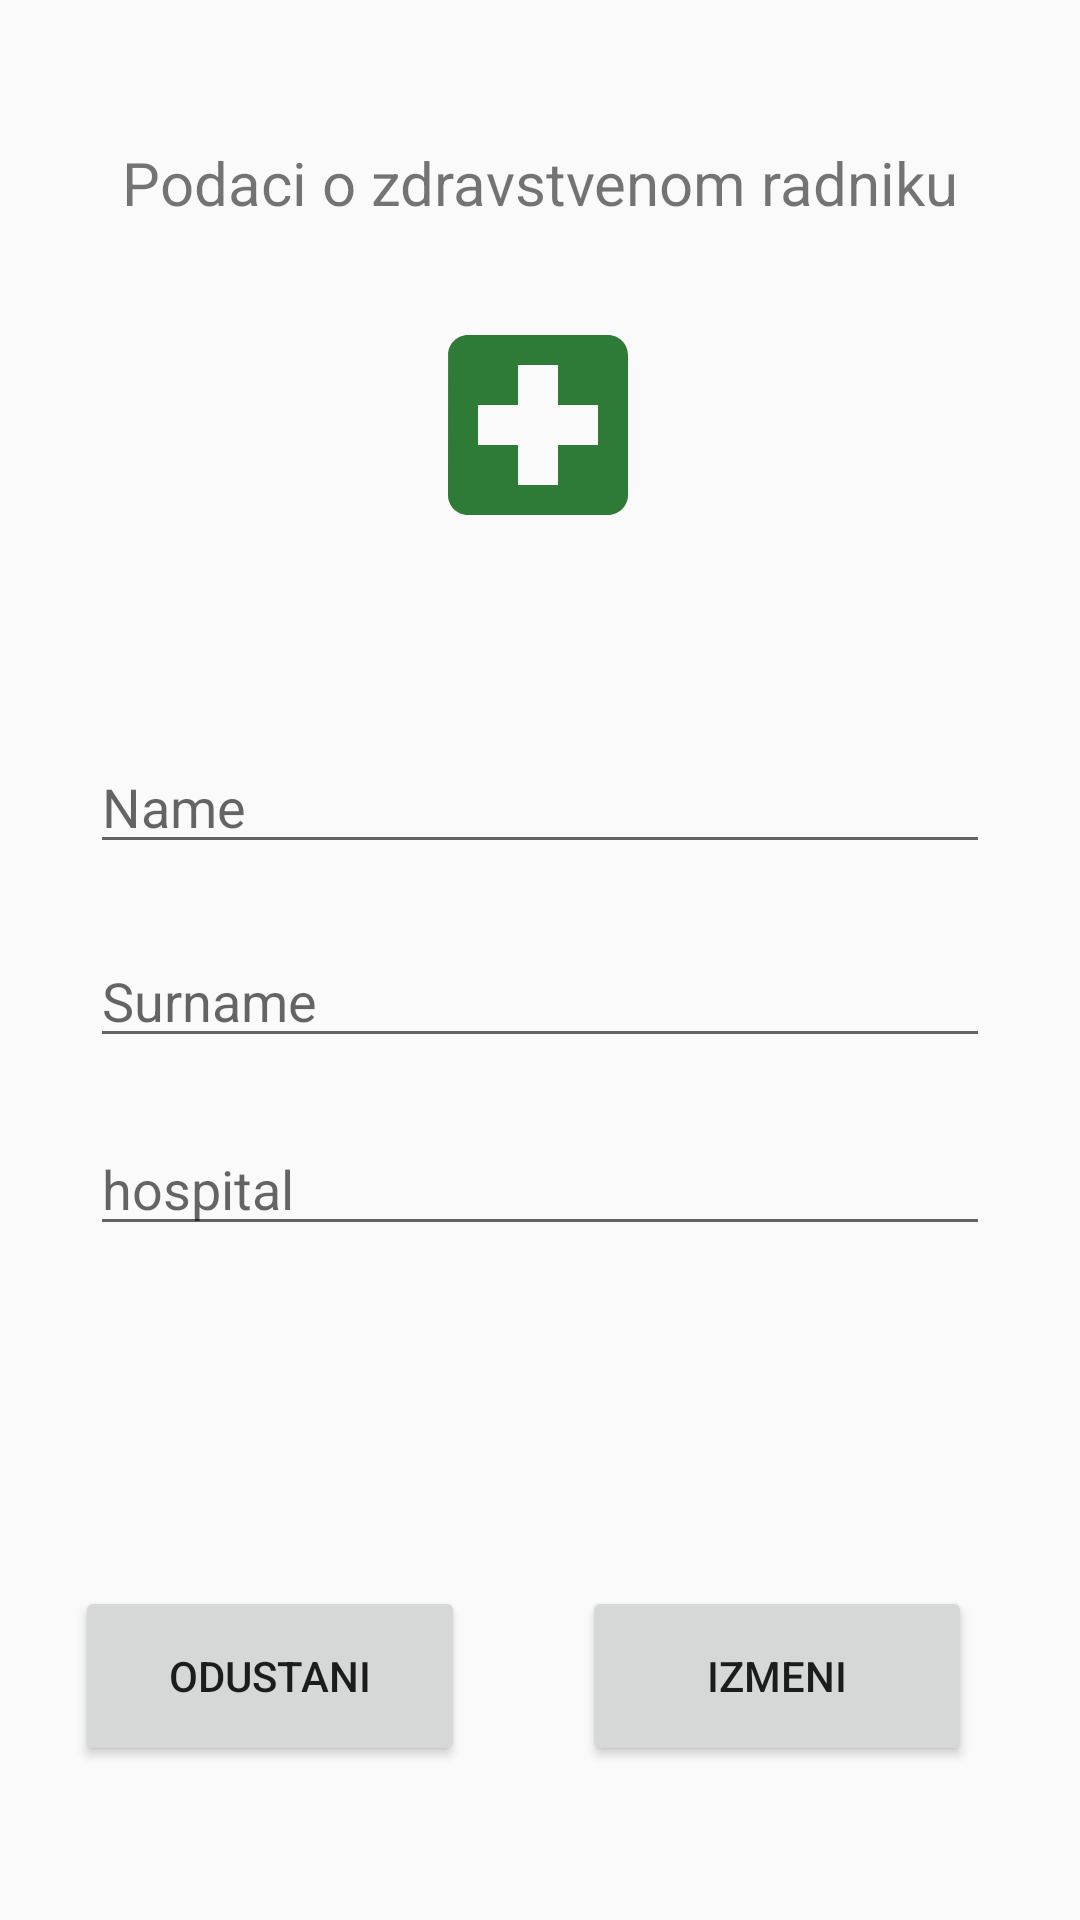

Screen size 1080 x 1920. Icon name, then its box in pixels as bbox=(x1, y1, x2, y2):
local hospital: bbox=(448, 335, 628, 515)
